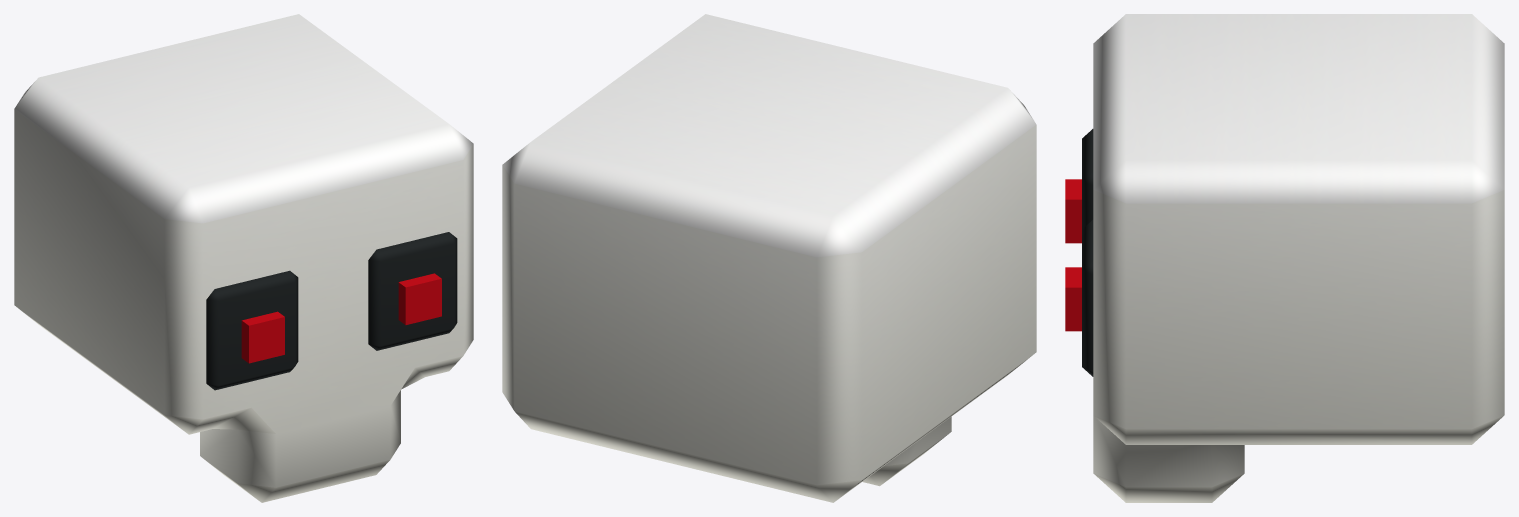
Rendered from Skull.fbx.
3 views of the same model, side by side, from view 1: azimuth 30°, elevation 25°; view 2: azimuth 150°, elevation 25°; view 3: azimuth 270°, elevation 25° (orthographic). The views are drawn at different scales.
Parts seen in each view (by area): view 1: polySurface1; view 2: polySurface1; view 3: polySurface1.
Part boxes in pixels (box(x1,y1,x2,y2)): polySurface1: box(14, 14, 473, 502); polySurface1: box(502, 14, 1036, 502); polySurface1: box(1065, 14, 1504, 502).
Size of the model in its own units: 47.34 by 48.75 by 50.56.
